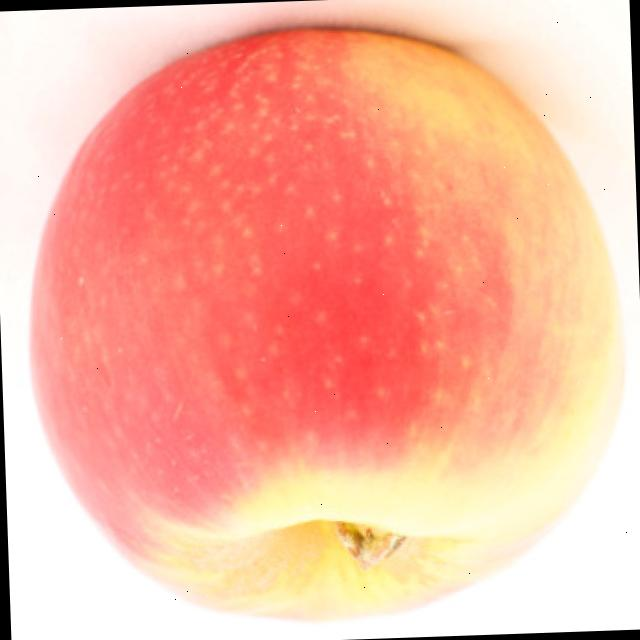Apel: (16, 17, 634, 634)
